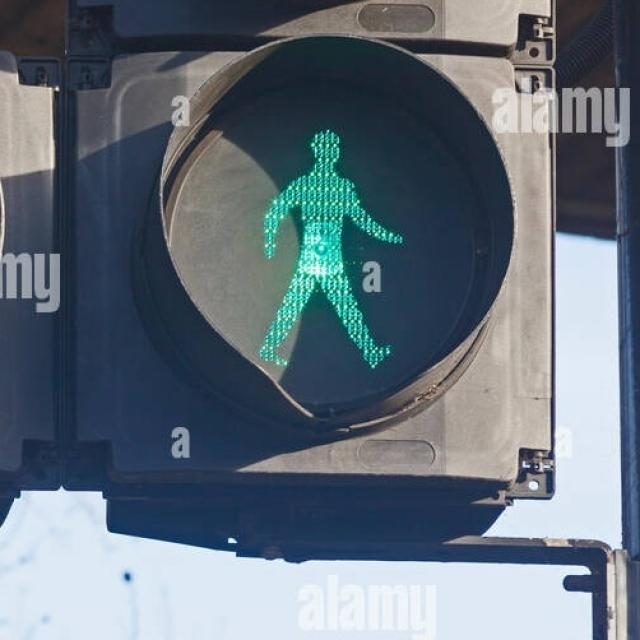geen-crossing: (247, 107, 389, 376)
